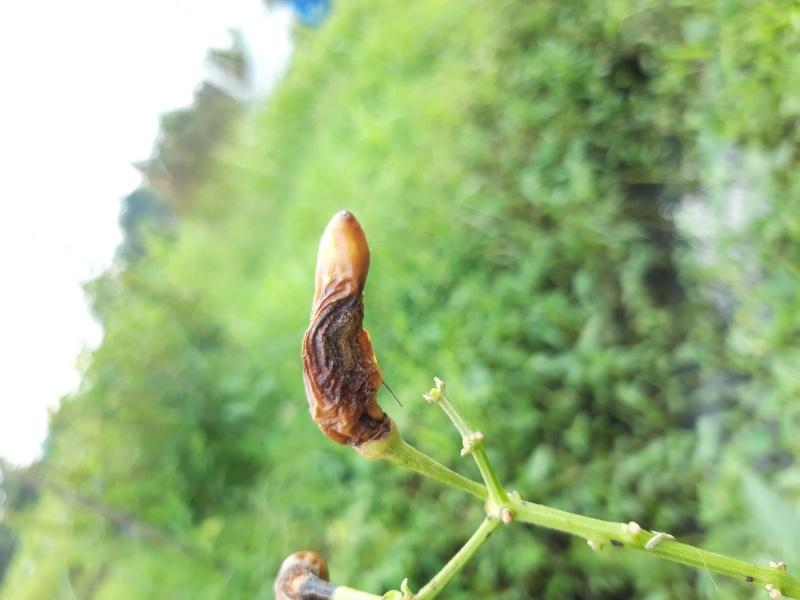antraknosa: (304, 209, 384, 441)
